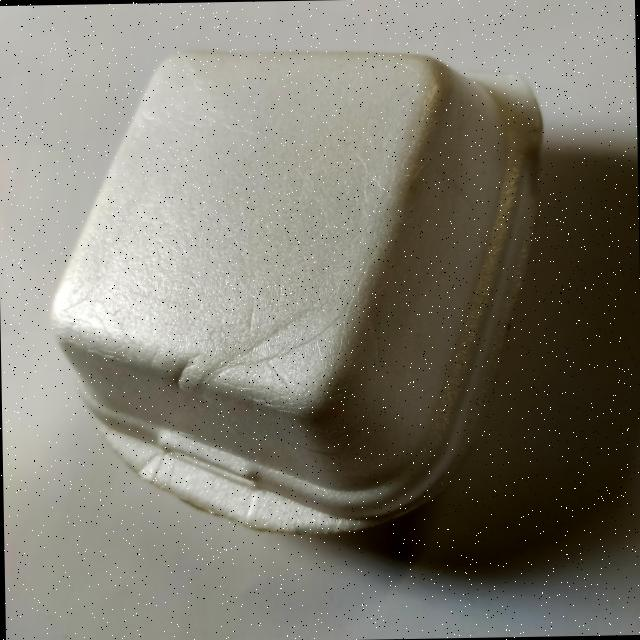styrofoam: (44, 42, 552, 542)
